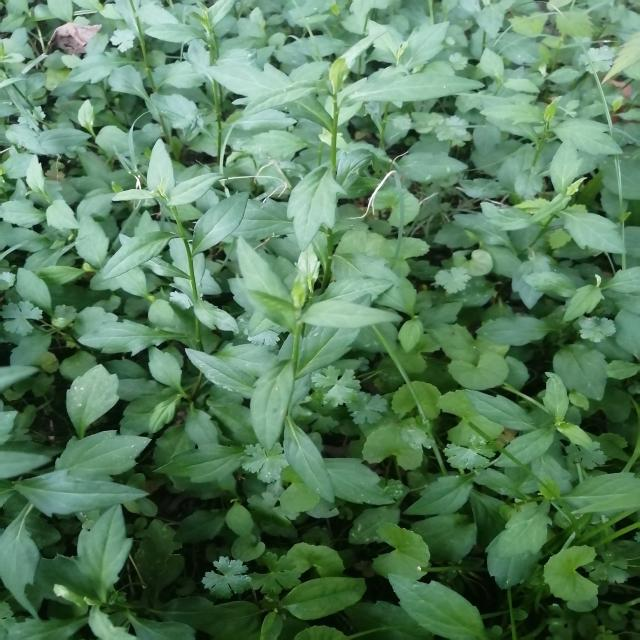Indian aster: (222, 245, 384, 484), (94, 150, 252, 354)
